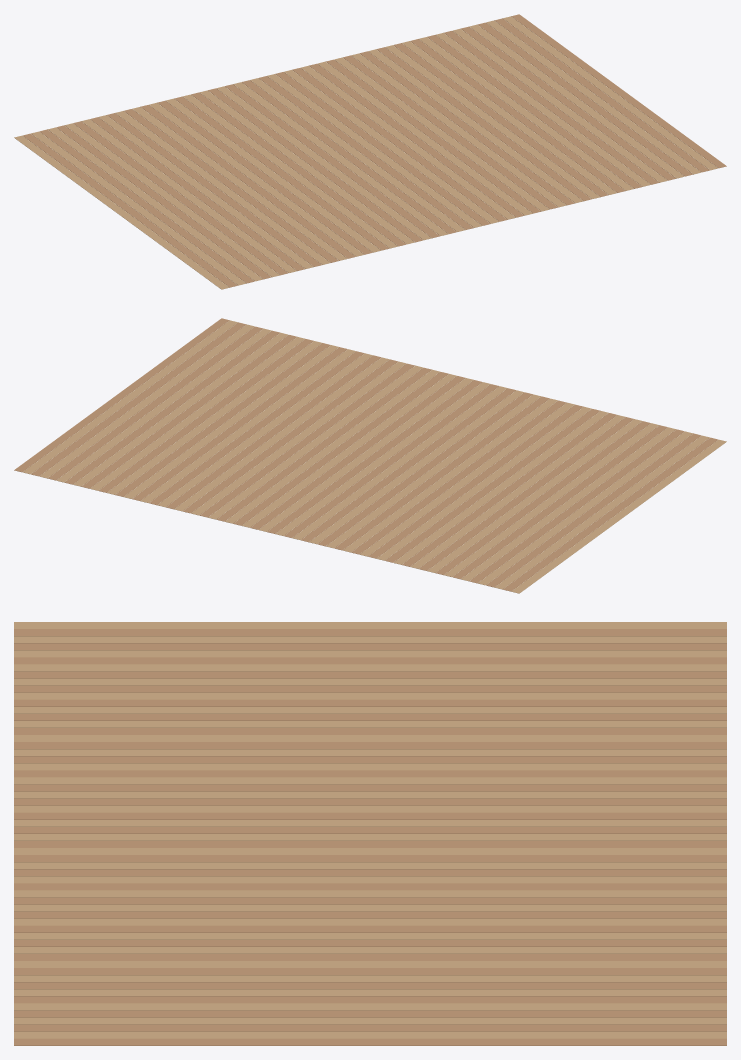
Rendered from Bakery_FloorPlanks.fbx.
The picture shows the model from 3 angles, top to bottom: view 1: azimuth 30°, elevation 25°; view 2: azimuth 150°, elevation 25°; view 3: azimuth 270°, elevation 25°; orthographic projection. The views are drawn at different scales.
Visible parts, largest first — view 1: Bakery_FloorPlanks; view 2: Bakery_FloorPlanks; view 3: Bakery_FloorPlanks.
Part boxes in pixels (left/top/right/bottom): Bakery_FloorPlanks: left=14, top=14, right=726, bottom=289; Bakery_FloorPlanks: left=14, top=318, right=726, bottom=593; Bakery_FloorPlanks: left=14, top=622, right=726, bottom=1045.
Size of the model in its own units: 180 by 0.06 by 128.
